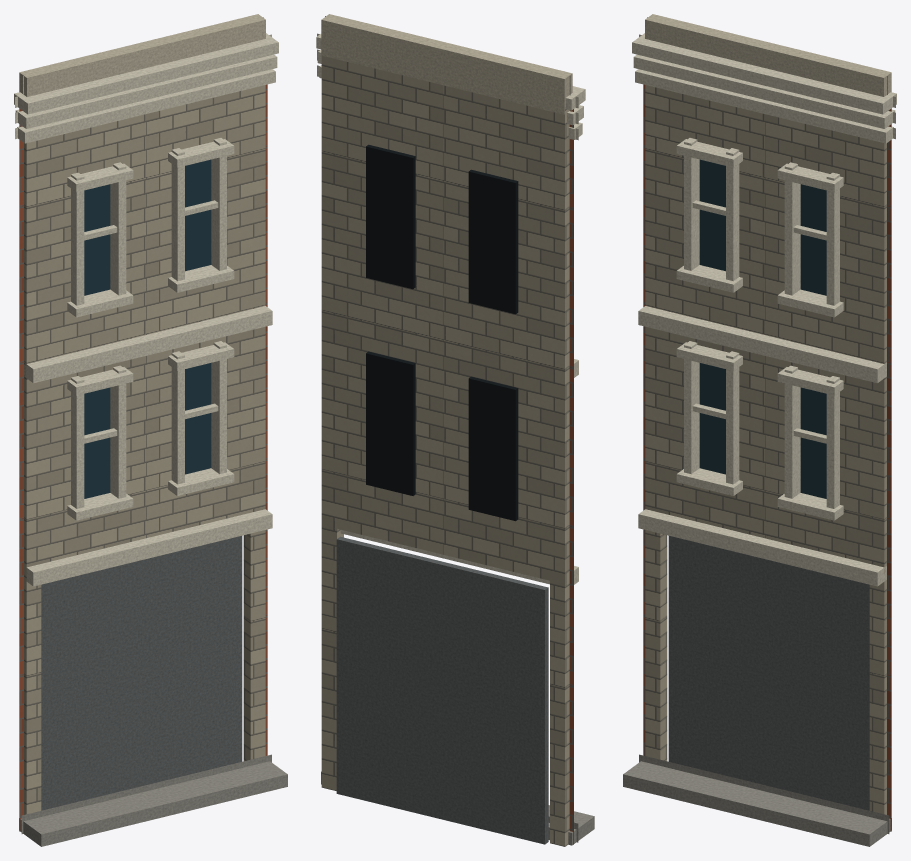
Rendered from WHSE20_lod2.glb.
3 renders of one model, left to right at view 1: azimuth 30°, elevation 25°; view 2: azimuth 150°, elevation 25°; view 3: azimuth 330°, elevation 25°, orthographic.
Parts seen in each view (by area): view 1: WHSE20_FRONT_LOD2; view 2: WHSE20_FRONT_LOD2; view 3: WHSE20_FRONT_LOD2.
Boxes of the visible parts, x1,y1,x2,y2 form: WHSE20_FRONT_LOD2: (14, 14, 287, 846); WHSE20_FRONT_LOD2: (316, 14, 594, 846); WHSE20_FRONT_LOD2: (623, 14, 896, 846).
Size of the model in its own units: 3.44 by 9.66 by 0.65.
8 materials, 6 textured.
